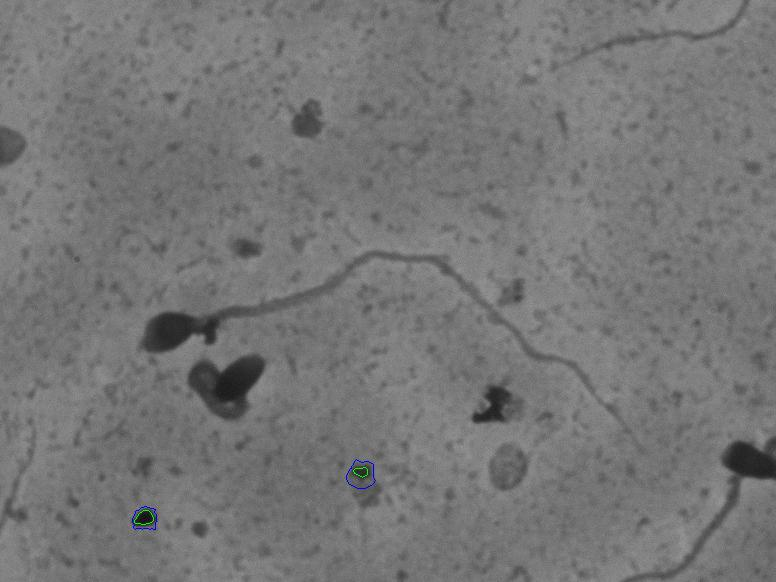Abnormal: (117, 189, 675, 466), (179, 354, 281, 454)
